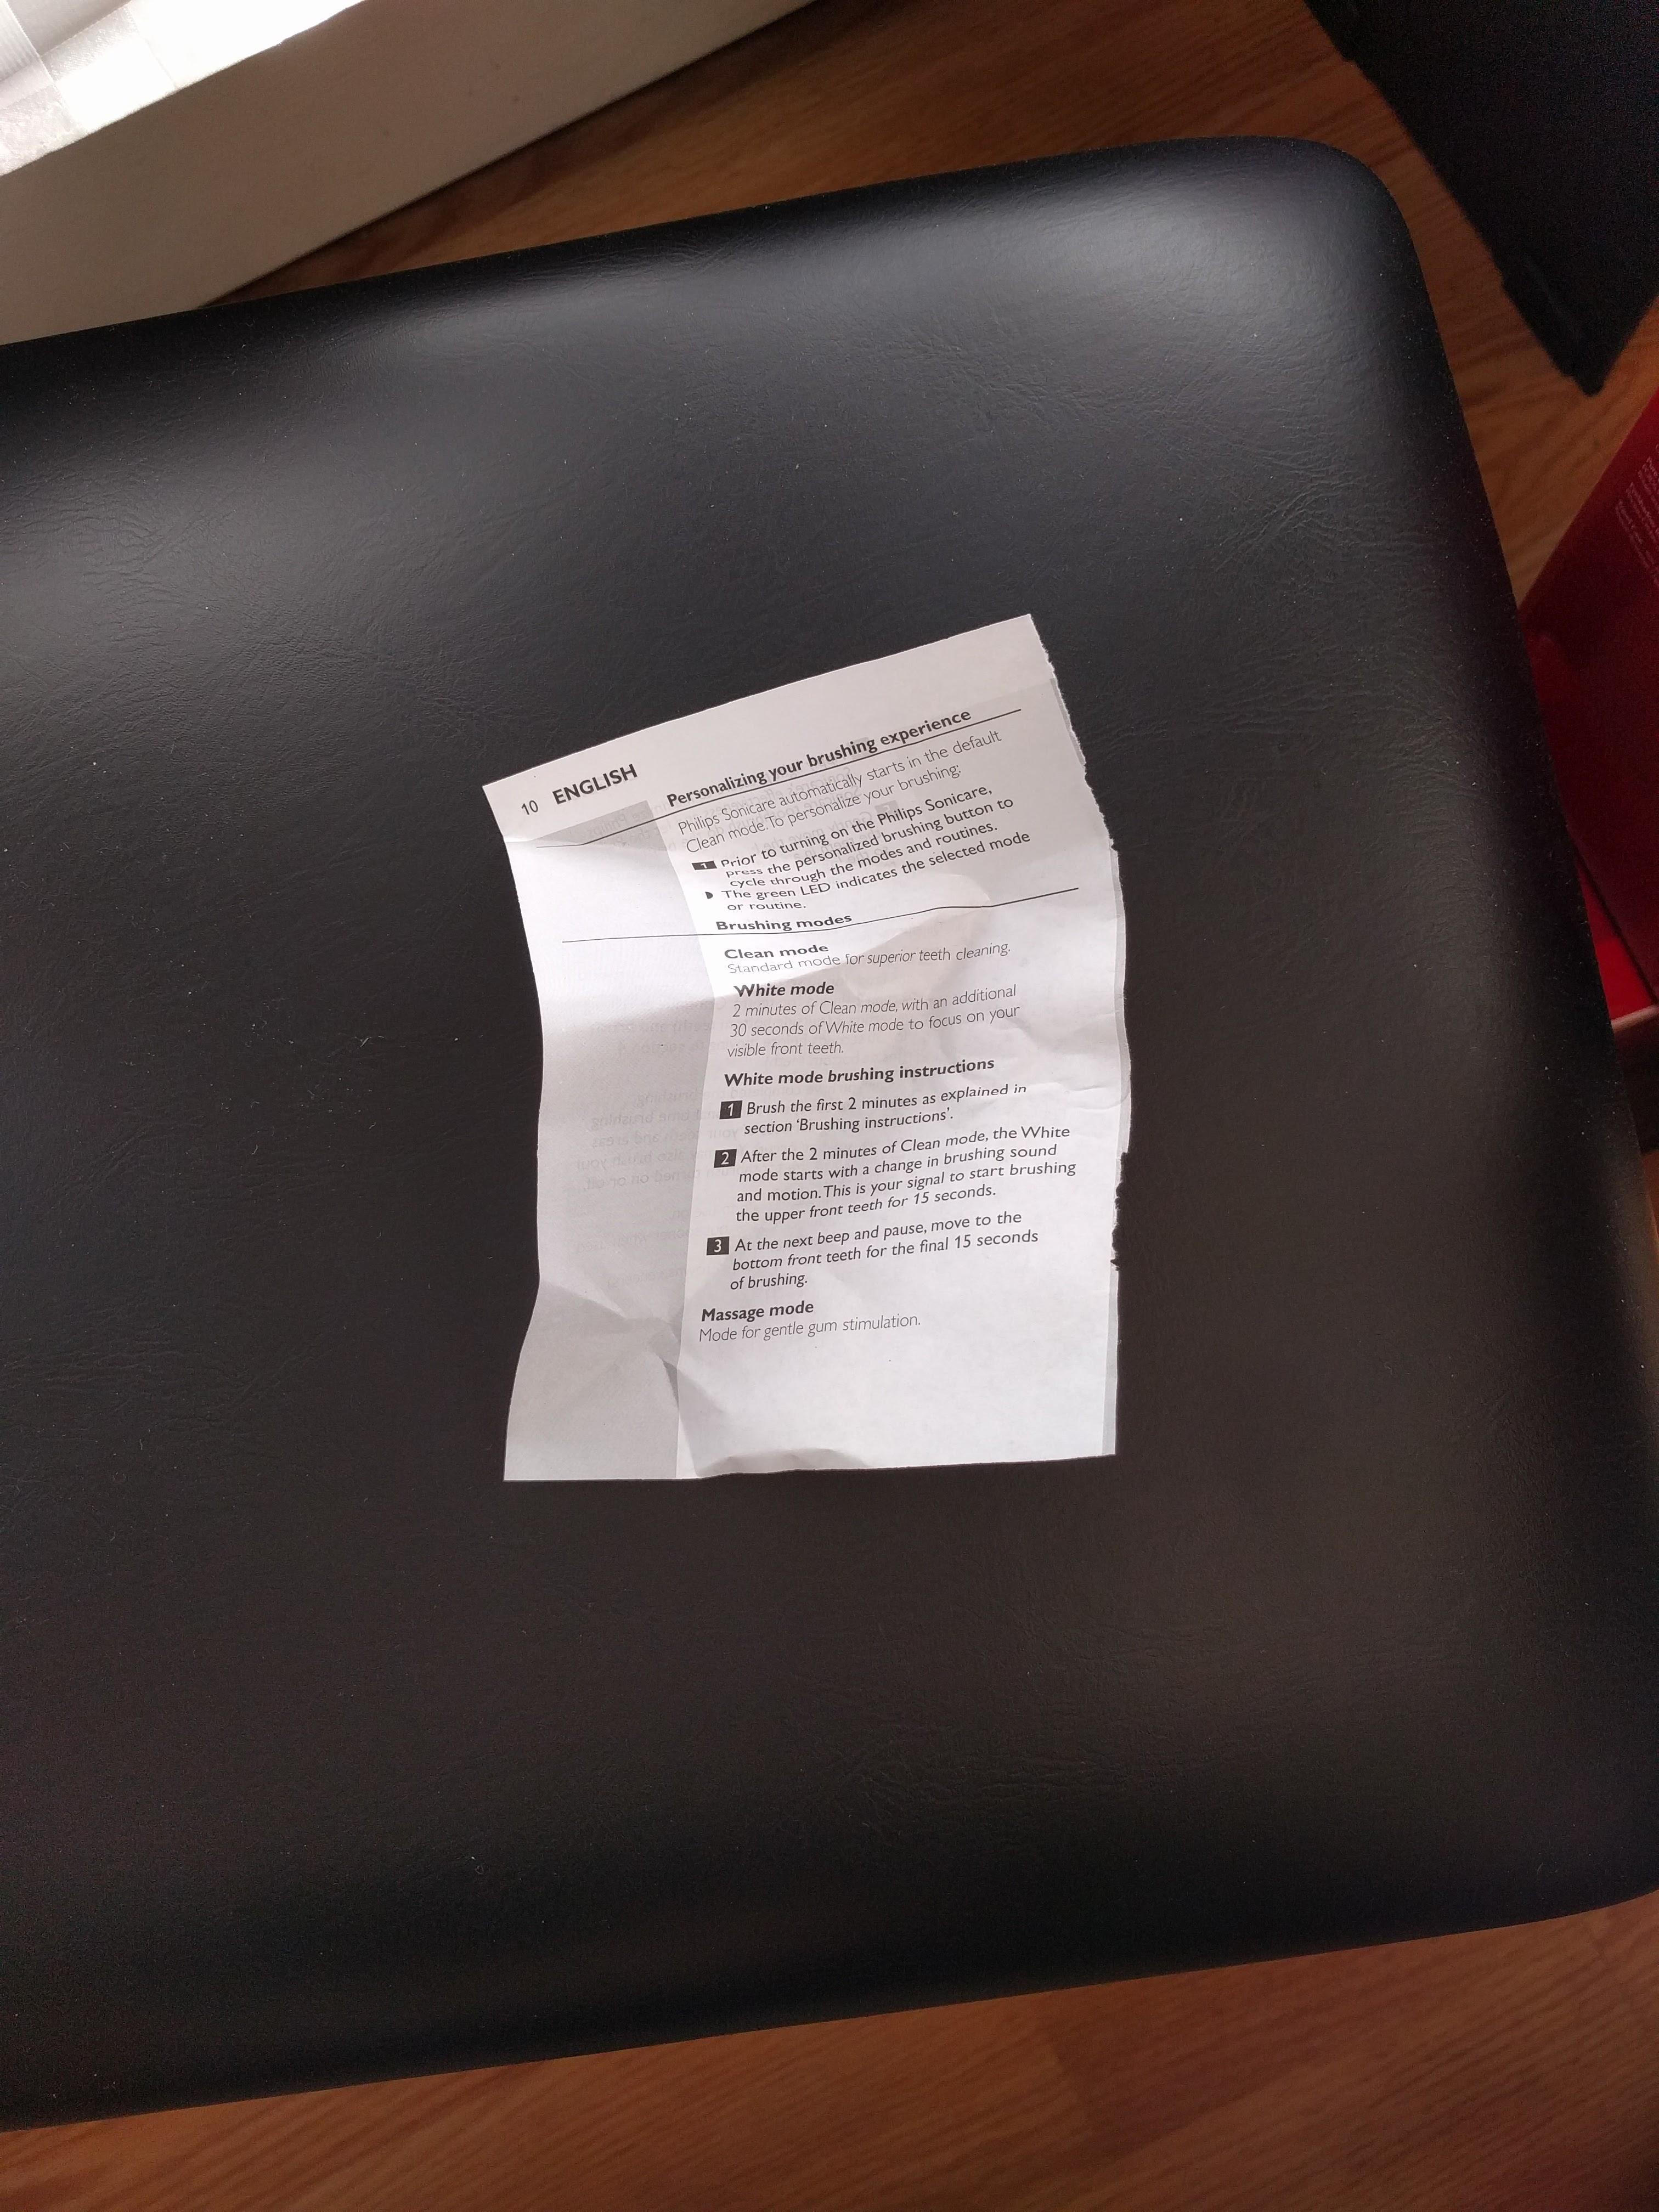paper: (221, 526, 1453, 1878)
